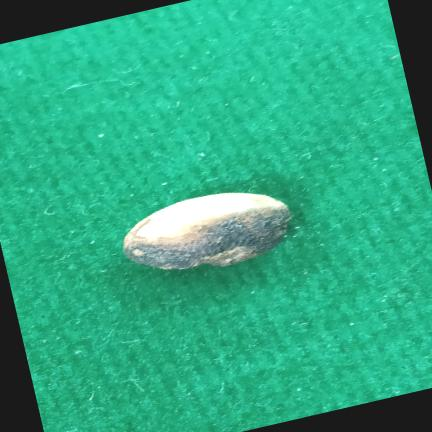partial-black: (124, 193, 290, 269)
